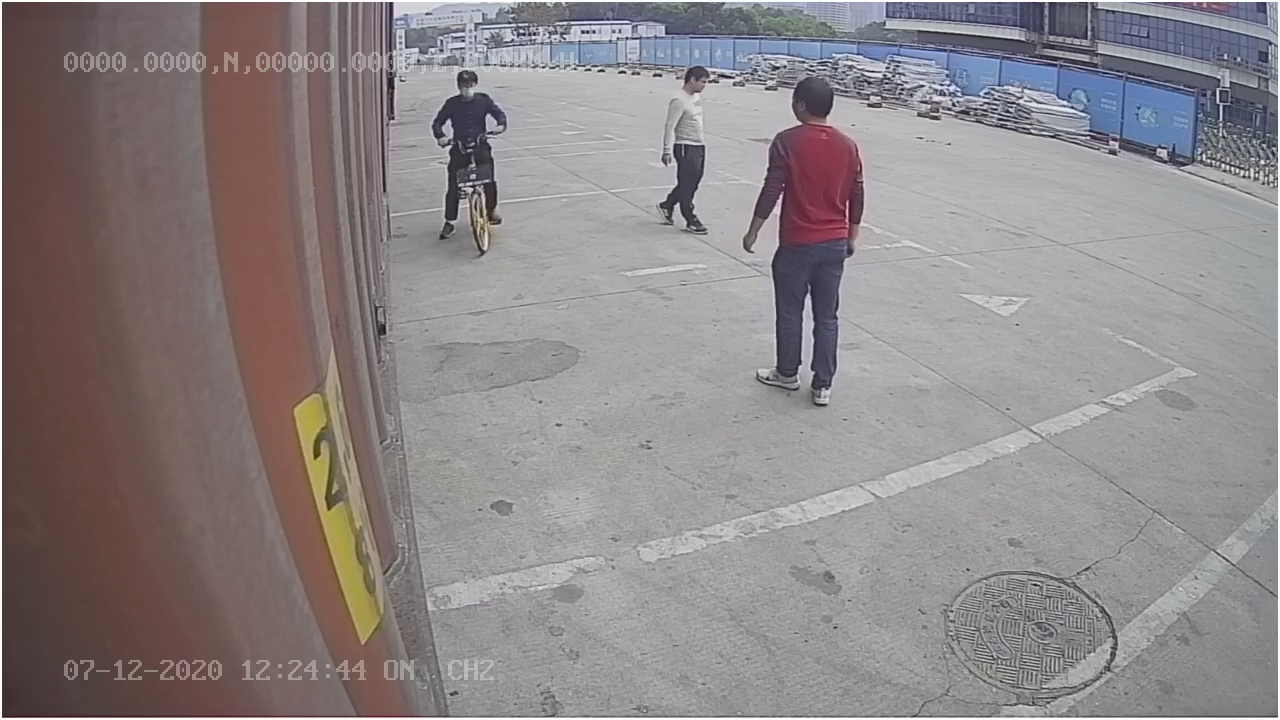person: (736, 73, 872, 408), (649, 62, 718, 238)
